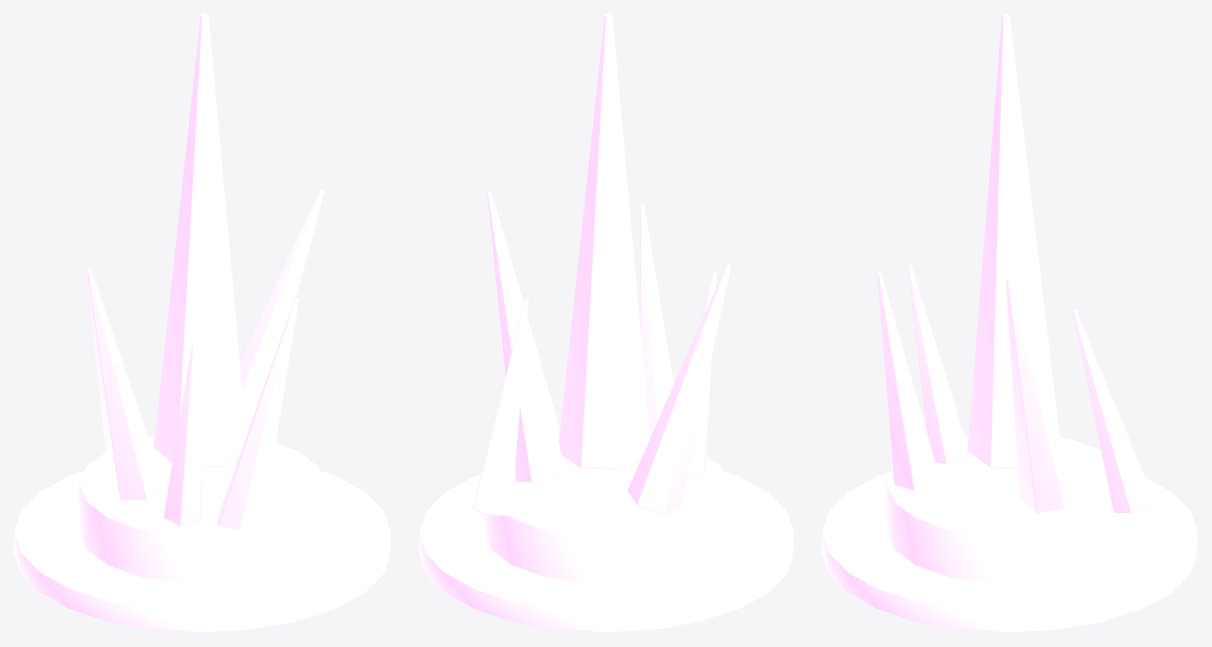
The model's file is crystal_hero.glb.
The picture shows the model from 3 angles, left to right: view 1: azimuth 30°, elevation 25°; view 2: azimuth 150°, elevation 25°; view 3: azimuth 270°, elevation 25°; orthographic projection.
Parts seen in each view (by area): view 1: crystal_hero; view 2: crystal_hero; view 3: crystal_hero.
Part boxes in pixels (box(x1,y1,x2,y2)): crystal_hero: box(14, 14, 390, 632); crystal_hero: box(419, 14, 793, 632); crystal_hero: box(822, 14, 1197, 632).
Bounding box in the file's own units: 1.68 × 2.7 × 1.68.
